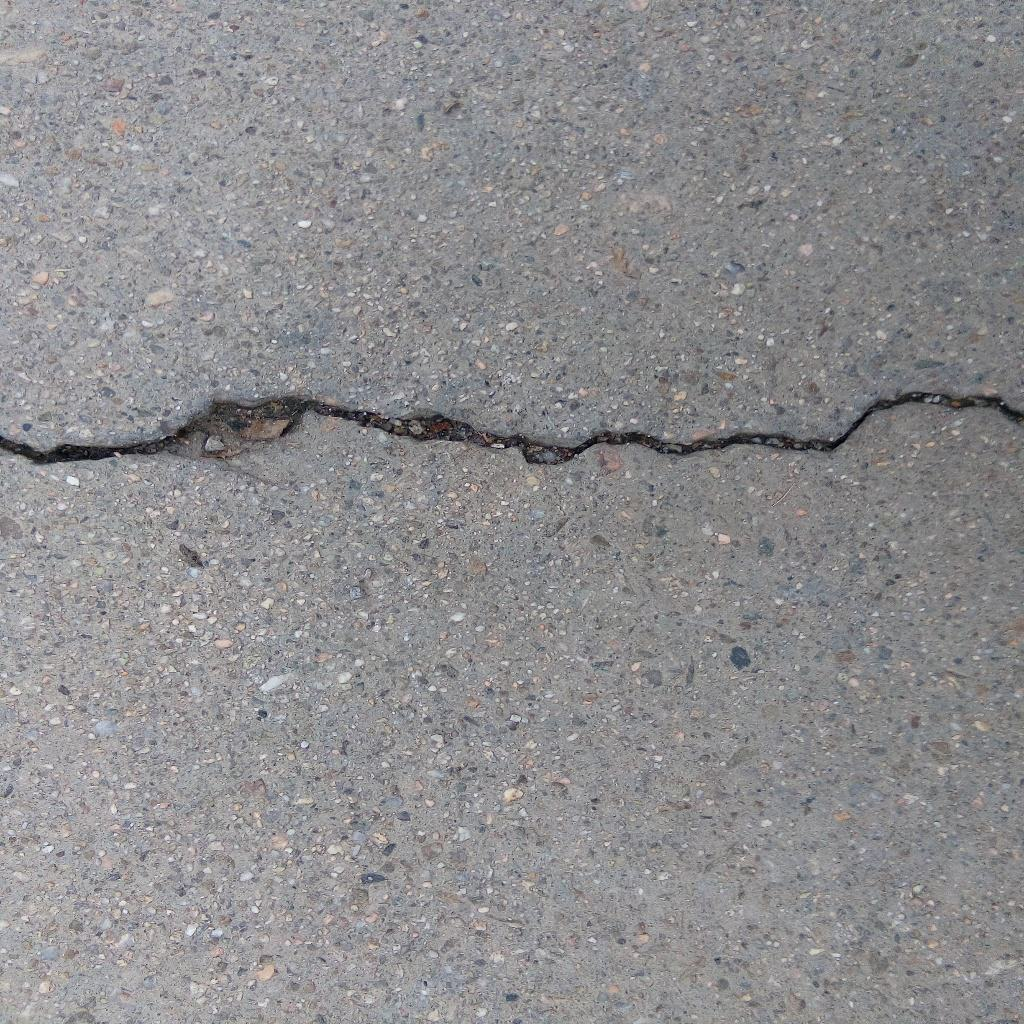Crack: (1, 390, 1024, 466)
